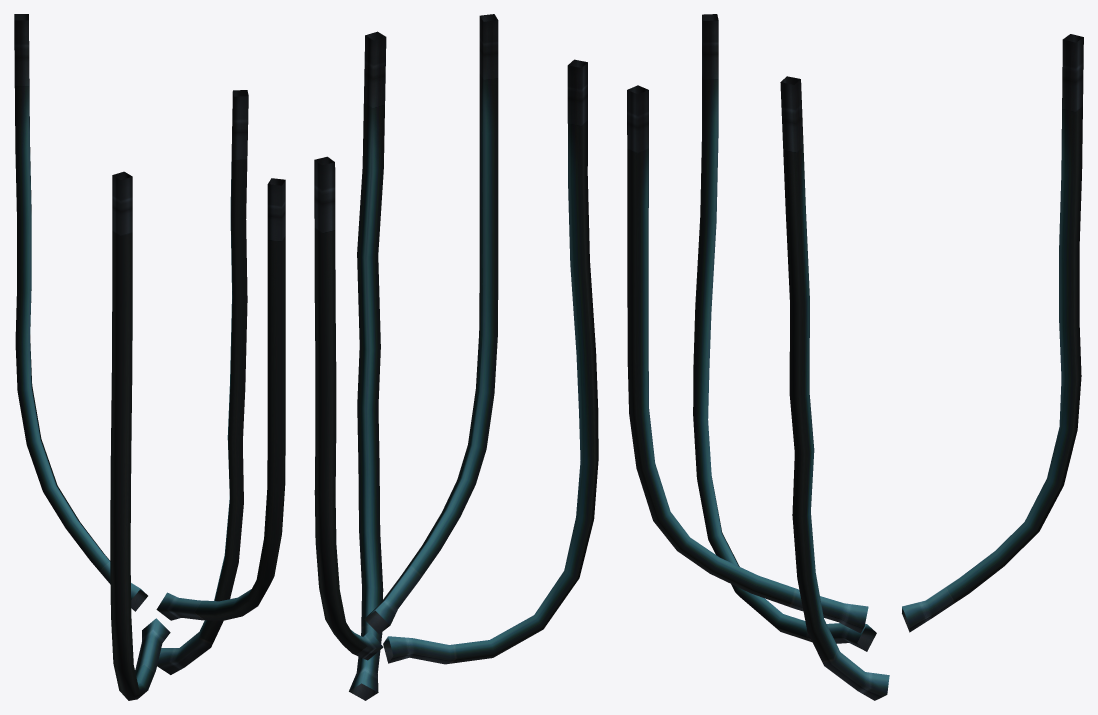
Rendered from yyguan.FBX.
The picture shows the model from 3 angles, left to right: view 1: azimuth 30°, elevation 25°; view 2: azimuth 150°, elevation 25°; view 3: azimuth 270°, elevation 25°; orthographic projection. The views are drawn at different scales.
Visible parts, largest first — view 1: yyguan; view 2: yyguan; view 3: yyguan.
Boxes of the visible parts, bbox=[...] form: yyguan: bbox=[14, 14, 285, 700]; yyguan: bbox=[314, 14, 598, 700]; yyguan: bbox=[627, 14, 1083, 700].
Bounding box in the file's own units: 0.4703 × 1.49 × 0.9714.
